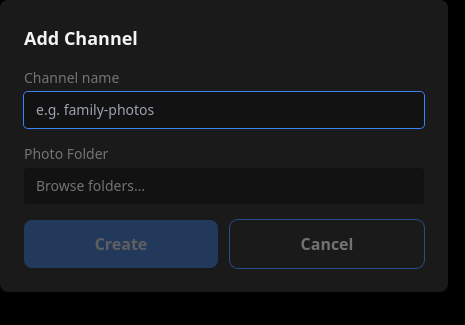
Scenario: CreateChannelForm › shows validation error for too-short name
Step 1. Type "a" into the field labelled "Channel name" → (224, 110), box [24,92,424,128]
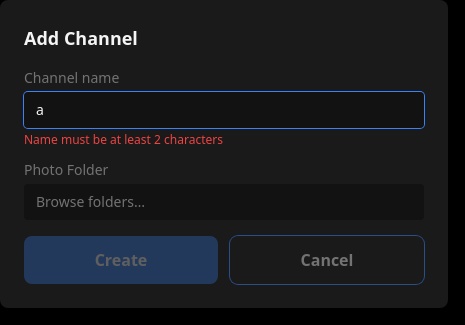
Expected: the text "Name must be at least 2 characters" is shown, [24,131,223,148]
